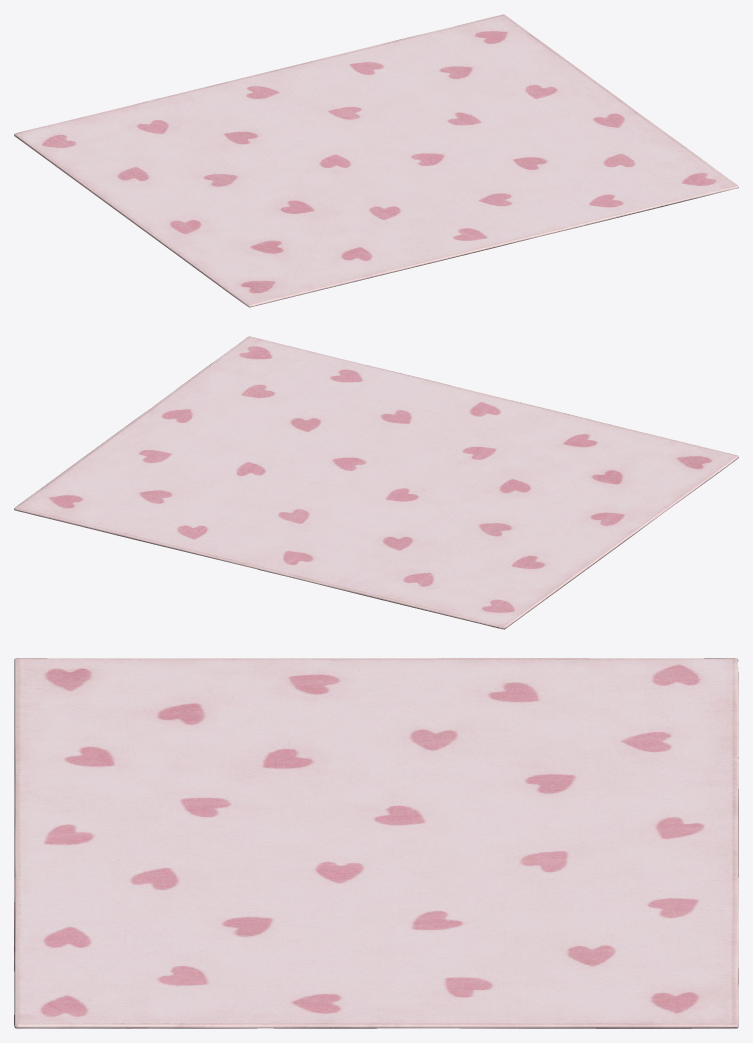
Rendered from barndrom_dywan_80548208.glb.
3 views of the same model, one above another, from view 1: azimuth 30°, elevation 25°; view 2: azimuth 150°, elevation 25°; view 3: azimuth 270°, elevation 25° (orthographic). The views are drawn at different scales.
Visible parts, largest first — view 1: barndrom_dywan_80548208; view 2: barndrom_dywan_80548208; view 3: barndrom_dywan_80548208.
Part boxes in pixels (x1,y1,x2,y2): barndrom_dywan_80548208: [14, 14, 738, 307]; barndrom_dywan_80548208: [14, 336, 738, 629]; barndrom_dywan_80548208: [14, 658, 738, 1028].
Size of the model in its own units: 1.6 by 0.00773 by 1.33.
1 material, 1 textured.
